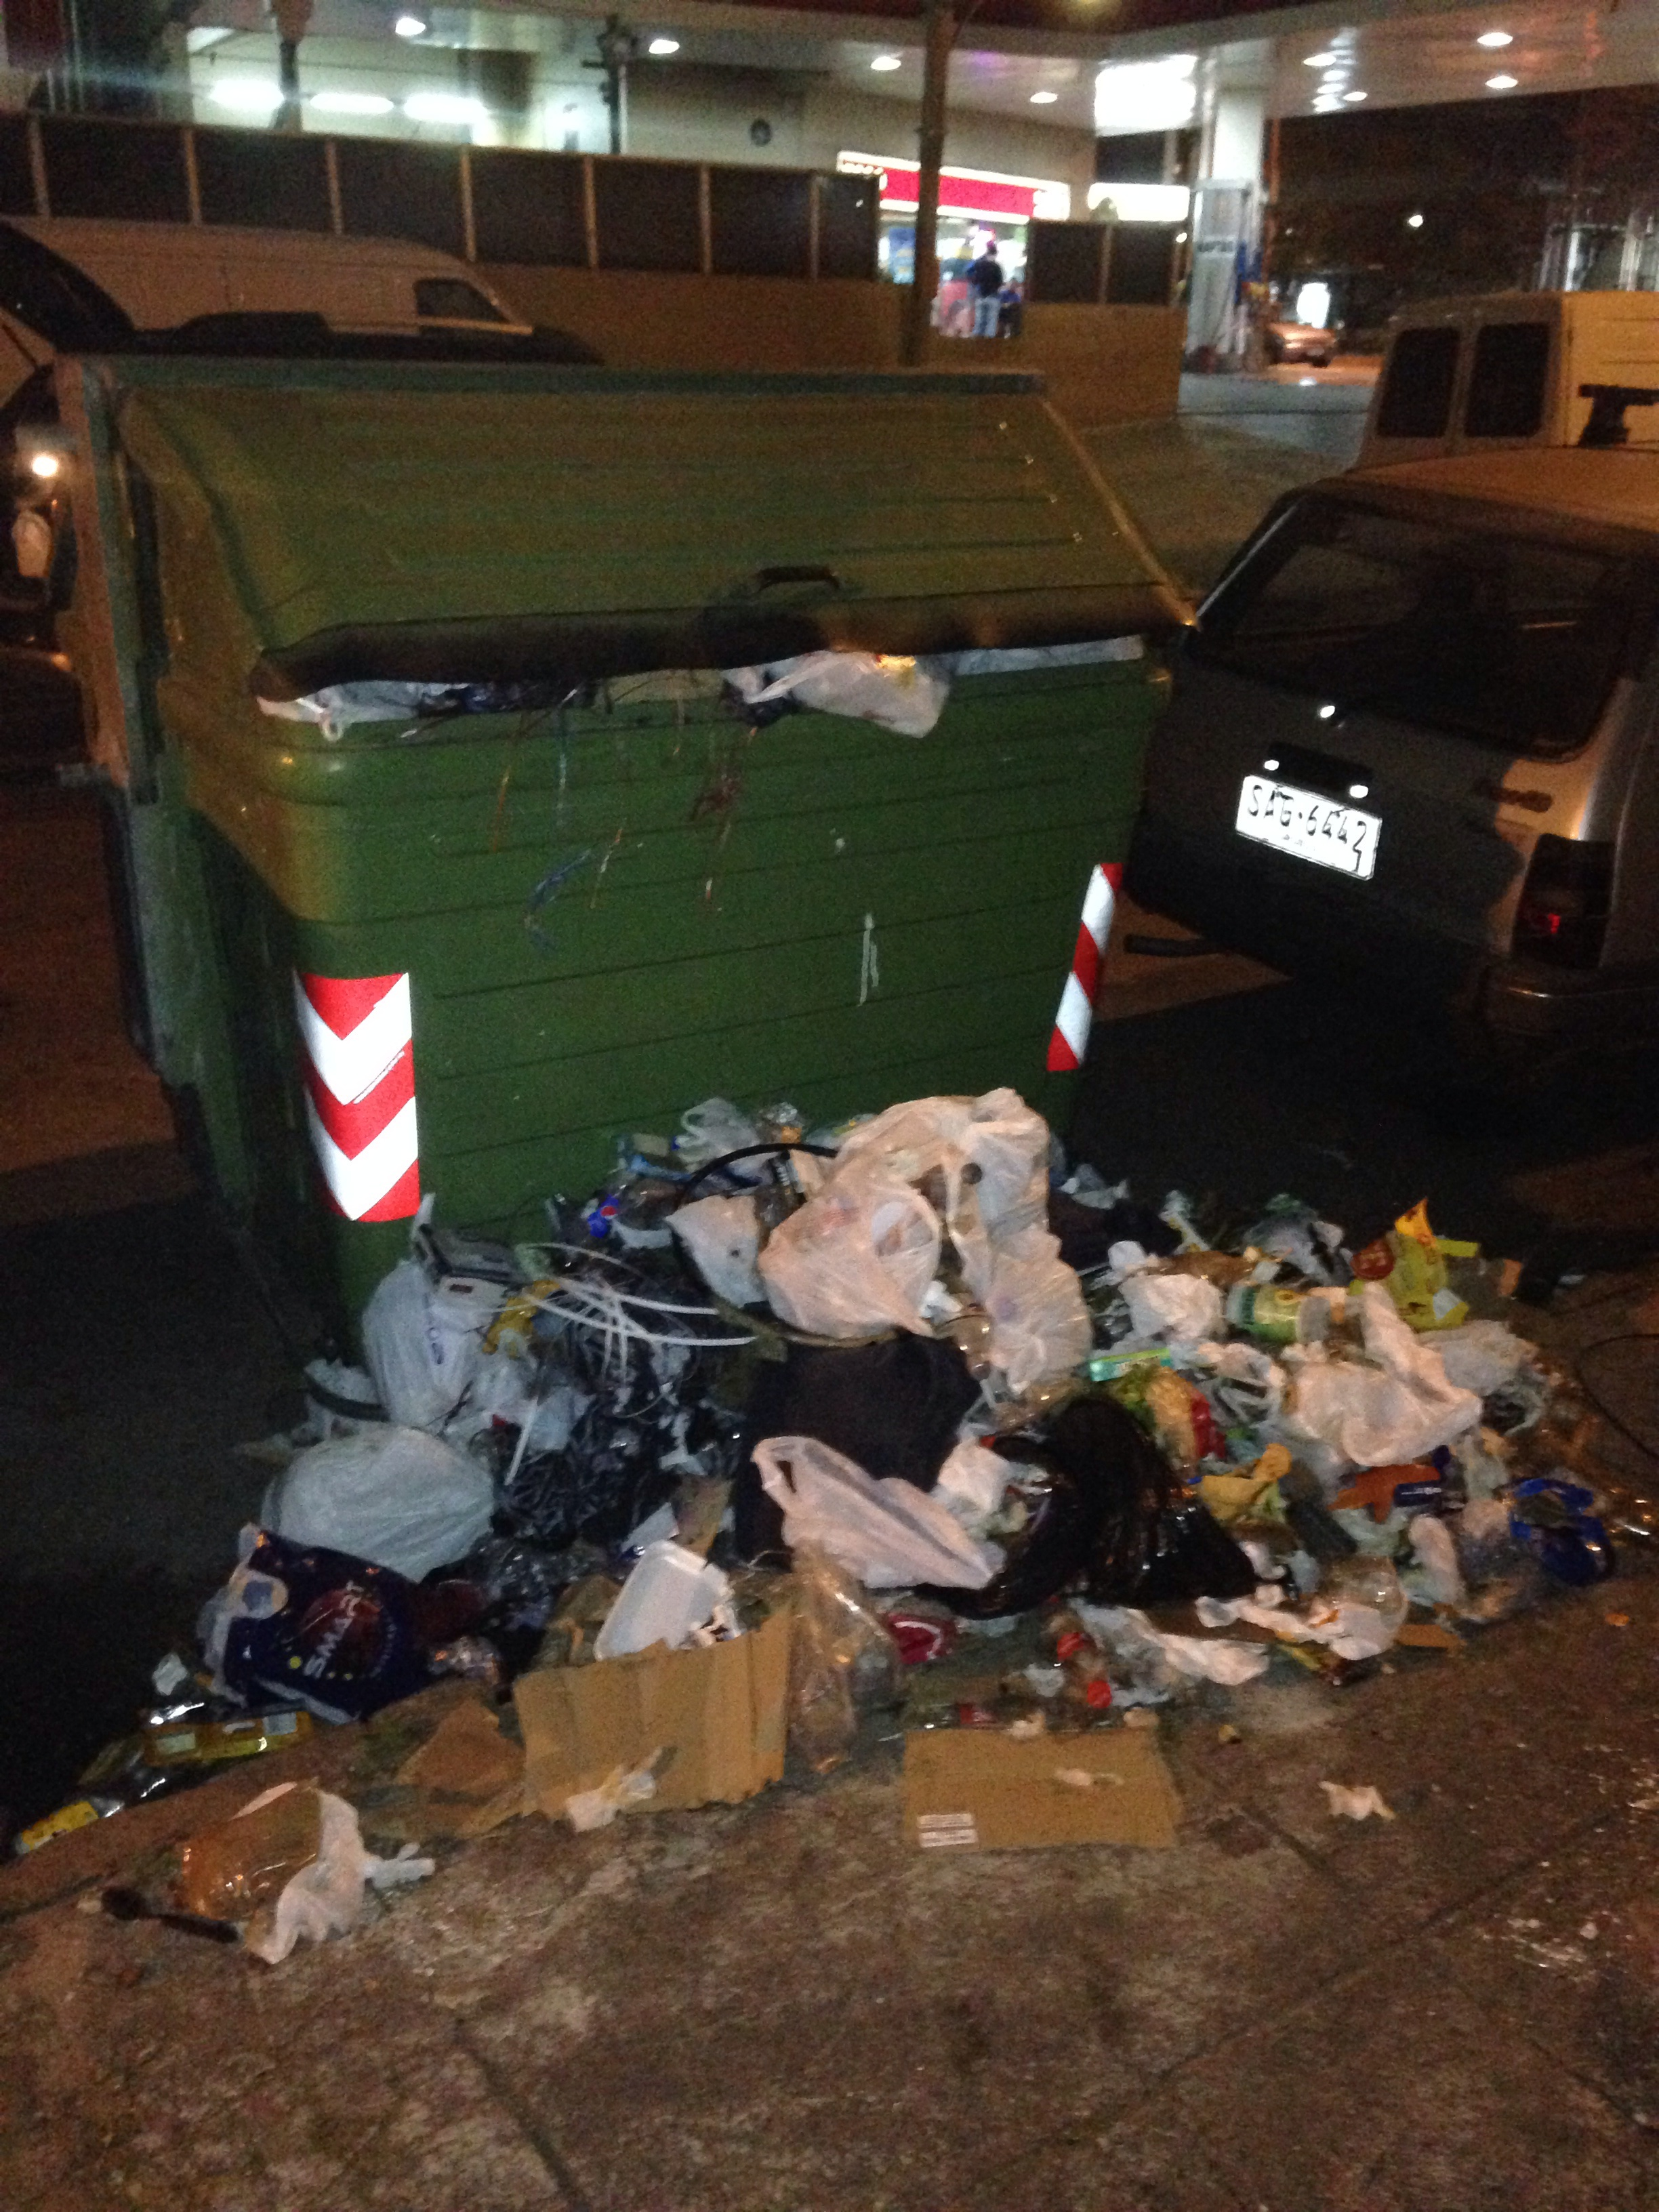container: (54, 352, 1209, 1416)
